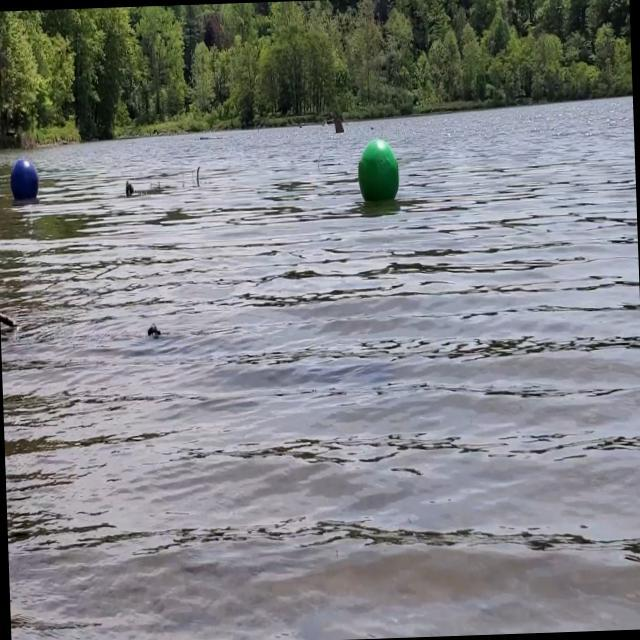buoy: (356, 136, 403, 213), (8, 153, 39, 207)
